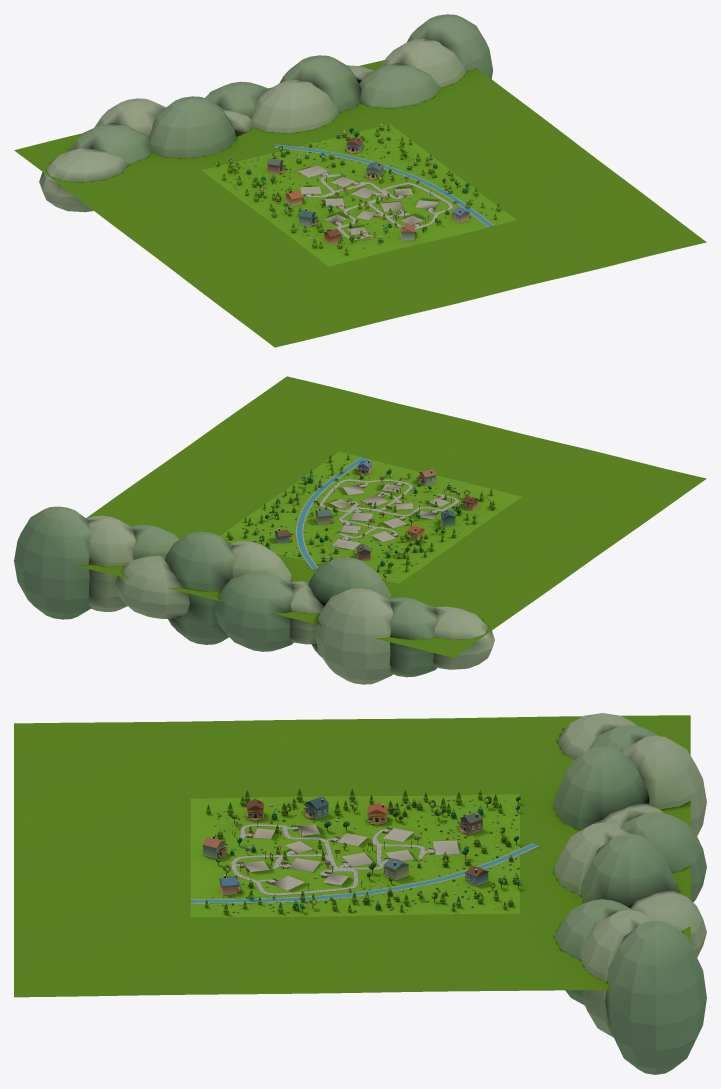
Rendered from world.glb.
3 renders of one model, top to bottom at view 1: azimuth 30°, elevation 25°; view 2: azimuth 150°, elevation 25°; view 3: azimuth 270°, elevation 25°, orthographic. The views are drawn at different scales.
Visible parts, largest first — view 1: Daylight ground 1, Daylight ground 0, Daylight ground 2, Daylight ground 3, Baked village landscape vertex lighting.015, Baked village landscape vertex lighting.006, Baked village landscape vertex lighting.025, Baked village landscape vertex lighting.020, Baked village landscape vertex lighting.009, Baked village landscape vertex lighting.026, Baked village landscape vertex lighting.007, Baked village landscape vertex lighting.008 (+48 smaller); view 2: Baked village landscape vertex lighting.017, Baked village landscape vertex lighting.022, Baked village landscape vertex lighting.008, Daylight ground 2, Daylight ground 1, Daylight ground 3, Daylight ground 0, Baked village landscape vertex lighting.016, Baked village landscape vertex lighting.012, Baked village landscape vertex lighting.021, Baked village landscape vertex lighting.027, Baked village landscape vertex lighting.013 (+53 smaller); view 3: Baked village landscape vertex lighting.026, Daylight ground 1, Daylight ground 0, Daylight ground 2, Daylight ground 3, Baked village landscape vertex lighting.021, Baked village landscape vertex lighting.025, Baked village landscape vertex lighting.012, Baked village landscape vertex lighting.059, Baked village landscape vertex lighting.042, Baked village landscape vertex lighting.043, Baked village landscape vertex lighting.062 (+52 smaller).
Part boxes in pixels (left/top/right/bottom): Daylight ground 1: left=298, top=124, right=453, bottom=191; Daylight ground 0: left=202, top=149, right=355, bottom=218; Daylight ground 2: left=265, top=196, right=422, bottom=266; Daylight ground 3: left=364, top=172, right=516, bottom=243; Baked village landscape vertex lighting.015: left=145, top=99, right=239, bottom=184; Baked village landscape vertex lighting.006: left=267, top=83, right=359, bottom=152; Baked village landscape vertex lighting.025: left=392, top=66, right=492, bottom=123; Baked village landscape vertex lighting.020: left=328, top=76, right=430, bottom=135; Baked village landscape vertex lighting.009: left=84, top=148, right=178, bottom=212; Baked village landscape vertex lighting.026: left=426, top=14, right=493, bottom=80; Baked village landscape vertex lighting.007: left=205, top=103, right=299, bottom=168; Baked village landscape vertex lighting.008: left=44, top=106, right=147, bottom=160; Baked village landscape vertex lighting.017: left=185, top=533, right=280, bottom=649; Baked village landscape vertex lighting.022: left=62, top=511, right=150, bottom=619; Baked village landscape vertex lighting.008: left=365, top=595, right=465, bottom=683; Daylight ground 2: left=372, top=475, right=521, bottom=539; Daylight ground 1: left=220, top=495, right=363, bottom=560; Daylight ground 3: left=278, top=451, right=419, bottom=514; Daylight ground 0: left=312, top=518, right=460, bottom=583; Baked village landscape vertex lighting.016: left=246, top=560, right=333, bottom=656; Baked village landscape vertex lighting.012: left=307, top=557, right=391, bottom=684; Baked village landscape vertex lighting.021: left=123, top=529, right=211, bottom=643; Baked village landscape vertex lighting.027: left=14, top=524, right=65, bottom=613; Baked village landscape vertex lighting.013: left=304, top=603, right=366, bottom=680; Baked village landscape vertex lighting.026: left=584, top=920, right=696, bottom=1074; Daylight ground 1: left=355, top=854, right=519, bottom=915; Daylight ground 0: left=355, top=794, right=519, bottom=855; Daylight ground 2: left=190, top=796, right=355, bottom=857; Daylight ground 3: left=190, top=856, right=355, bottom=917; Baked village landscape vertex lighting.021: left=579, top=838, right=691, bottom=931; Baked village landscape vertex lighting.025: left=496, top=904, right=601, bottom=1010; Baked village landscape vertex lighting.012: left=586, top=735, right=696, bottom=812; Baked village landscape vertex lighting.059: left=25, top=779, right=119, bottom=820; Baked village landscape vertex lighting.042: left=402, top=734, right=496, bottom=775; Baked village landscape vertex lighting.043: left=402, top=933, right=496, bottom=974; Baked village landscape vertex lighting.062: left=25, top=899, right=119, bottom=939.
Bounding box in the file's own units: 475 × 108 × 471.
Materials: 5 (4 with a texture image).
